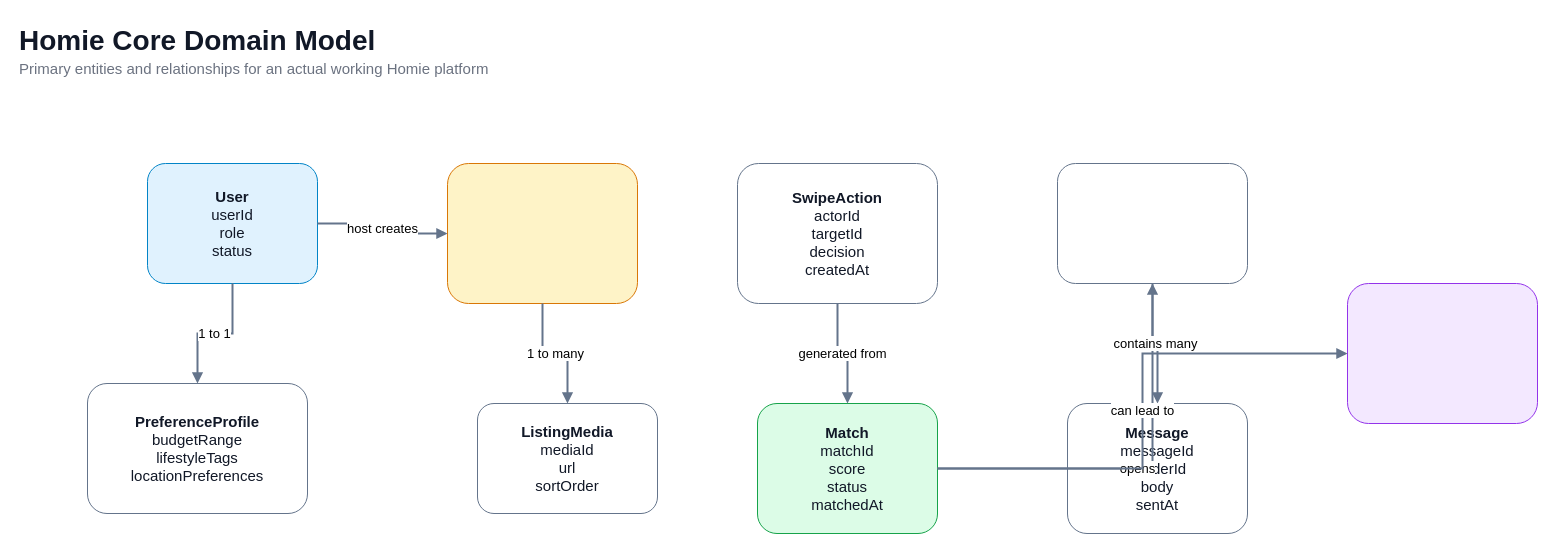
This 1555x551 diagram has some shape labels left out. Here are the shapes that lost their labels. From the top down, the centre of each, then its label:
the point at 542,233: Listing listingId address rent availabilityStatus
the point at 1152,223: Conversation conversationId matchId lastMessageAt
the point at 1442,353: ViewingRequest requestId listingId status scheduledFor
